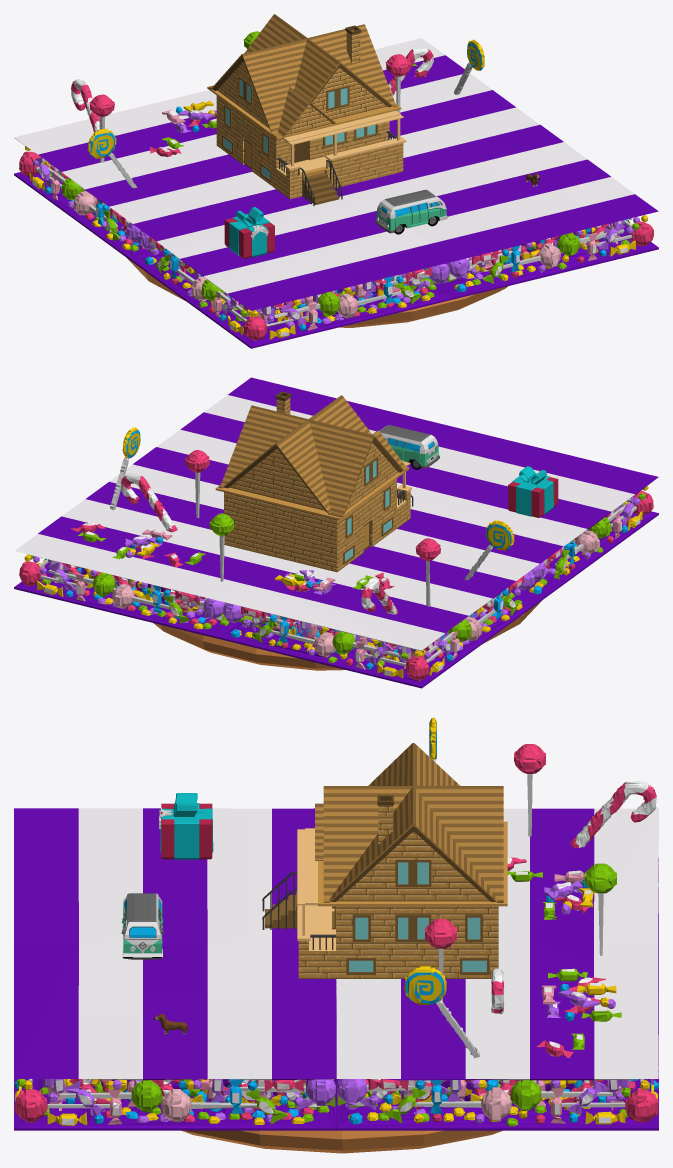
3 views of the same model, one above another, from view 1: azimuth 30°, elevation 25°; view 2: azimuth 150°, elevation 25°; view 3: azimuth 270°, elevation 25° (orthographic). The views are drawn at different scales.
Parts seen in each view (by area): view 1: TERRAIN_CANDY, Cube.508, VEHICLES_VAN, OBJRANDOM_GIANT_PRESENT, UNDERGROUND_PIZZA; view 2: TERRAIN_CANDY, Cube.508, UNDERGROUND_PIZZA, OBJRANDOM_GIANT_PRESENT, VEHICLES_VAN; view 3: TERRAIN_CANDY, Cube.508, UNDERGROUND_PIZZA, OBJRANDOM_GIANT_PRESENT, VEHICLES_VAN.
Boxes of the visible parts, x1=… form: TERRAIN_CANDY: x1=14, y1=31, x2=658, y2=348; Cube.508: x1=207, y1=14, x2=406, y2=206; VEHICLES_VAN: x1=375, y1=189, x2=447, y2=234; OBJRANDOM_GIANT_PRESENT: x1=224, y1=207, x2=274, y2=258; UNDERGROUND_PIZZA: x1=127, y1=258, x2=507, y2=327; TERRAIN_CANDY: x1=14, y1=377, x2=658, y2=688; Cube.508: x1=215, y1=391, x2=413, y2=572; UNDERGROUND_PIZZA: x1=153, y1=601, x2=541, y2=670; OBJRANDOM_GIANT_PRESENT: x1=508, y1=466, x2=558, y2=517; VEHICLES_VAN: x1=379, y1=425, x2=439, y2=469; TERRAIN_CANDY: x1=14, y1=717, x2=658, y2=1130; Cube.508: x1=262, y1=743, x2=507, y2=978; UNDERGROUND_PIZZA: x1=181, y1=1130, x2=502, y2=1153; OBJRANDOM_GIANT_PRESENT: x1=159, y1=793, x2=213, y2=859; VEHICLES_VAN: x1=121, y1=893, x2=163, y2=959.
Bounding box in the file's own units: 4059 × 1796 × 4000.
33 materials, 3 textured.
